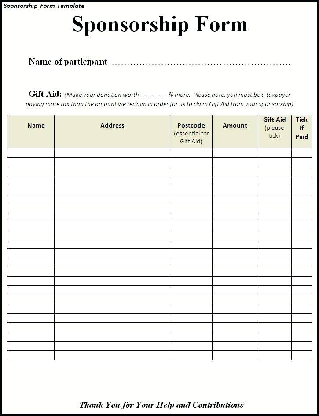textbox: (52, 154, 172, 170), (52, 208, 172, 224), (50, 311, 172, 326), (51, 320, 173, 335), (51, 348, 173, 363), (51, 182, 172, 197), (52, 227, 173, 242), (52, 237, 173, 252), (52, 329, 173, 344), (52, 255, 172, 270), (51, 265, 171, 280), (52, 274, 172, 289), (52, 283, 172, 298), (50, 246, 172, 260), (50, 293, 172, 307), (51, 302, 173, 316), (51, 165, 172, 179), (51, 200, 172, 214), (52, 146, 172, 160), (52, 173, 172, 187), (52, 218, 172, 232), (52, 339, 172, 353), (51, 192, 172, 205), (209, 144, 259, 160), (4, 302, 57, 317), (5, 218, 57, 233), (5, 228, 57, 243), (4, 339, 56, 354), (5, 164, 56, 179), (5, 255, 56, 270), (5, 310, 56, 325), (168, 319, 215, 335), (6, 182, 56, 197), (5, 329, 55, 344), (209, 255, 259, 270), (209, 348, 259, 363), (4, 173, 57, 187), (210, 264, 259, 279), (210, 310, 259, 325), (5, 156, 57, 170), (4, 191, 56, 205), (5, 201, 57, 215), (4, 247, 56, 261), (5, 146, 56, 160), (5, 237, 56, 251), (5, 284, 56, 298), (167, 191, 214, 206), (210, 273, 257, 288), (5, 265, 55, 279), (6, 274, 56, 288), (5, 293, 55, 307), (209, 165, 259, 179), (209, 183, 259, 197), (209, 191, 259, 205), (209, 210, 259, 224), (209, 228, 259, 242), (209, 237, 259, 251), (168, 173, 214, 188), (168, 330, 214, 345), (6, 349, 55, 363), (210, 155, 259, 169), (210, 320, 259, 334), (5, 210, 57, 223), (4, 321, 56, 334), (167, 201, 215, 215), (210, 246, 258, 260), (210, 302, 258, 316), (168, 237, 215, 251), (211, 283, 258, 297), (209, 201, 259, 214), (209, 219, 259, 232), (168, 183, 214, 197), (167, 229, 213, 243), (168, 247, 214, 261), (168, 274, 214, 288), (168, 283, 214, 297), (168, 311, 214, 325), (168, 349, 214, 363), (210, 174, 259, 187), (210, 293, 259, 306), (168, 146, 213, 160), (168, 165, 213, 179), (168, 256, 213, 270), (210, 330, 258, 343), (168, 155, 212, 169), (167, 219, 214, 232), (167, 293, 214, 306), (254, 227, 292, 243), (254, 155, 294, 170), (254, 273, 294, 288), (168, 265, 214, 278), (167, 340, 213, 353), (168, 302, 213, 315), (254, 236, 293, 251), (211, 340, 259, 352), (255, 182, 293, 197), (255, 348, 293, 363), (167, 211, 214, 223), (254, 218, 294, 232), (254, 265, 294, 279), (253, 320, 293, 334), (255, 301, 292, 316), (255, 146, 294, 160), (254, 311, 293, 325), (253, 339, 294, 352), (254, 209, 292, 223), (255, 255, 293, 269), (255, 292, 292, 306), (254, 173, 293, 186), (254, 247, 293, 260), (254, 165, 292, 178), (255, 284, 293, 297), (255, 330, 293, 343), (254, 201, 292, 213), (255, 193, 292, 205), (289, 218, 314, 233), (289, 256, 315, 270), (288, 283, 314, 297), (288, 292, 314, 306), (289, 229, 314, 243), (289, 274, 314, 288), (289, 311, 314, 325), (289, 321, 314, 335), (289, 339, 314, 353), (289, 348, 314, 362), (288, 247, 314, 260), (289, 302, 313, 316), (288, 165, 313, 178), (289, 201, 314, 214), (289, 210, 314, 223), (288, 330, 313, 343), (289, 145, 312, 159), (289, 173, 313, 186), (290, 183, 314, 196), (289, 193, 314, 205), (289, 266, 314, 278), (290, 238, 313, 251), (290, 156, 314, 168)
textline: (110, 51, 292, 67), (139, 89, 169, 101)
